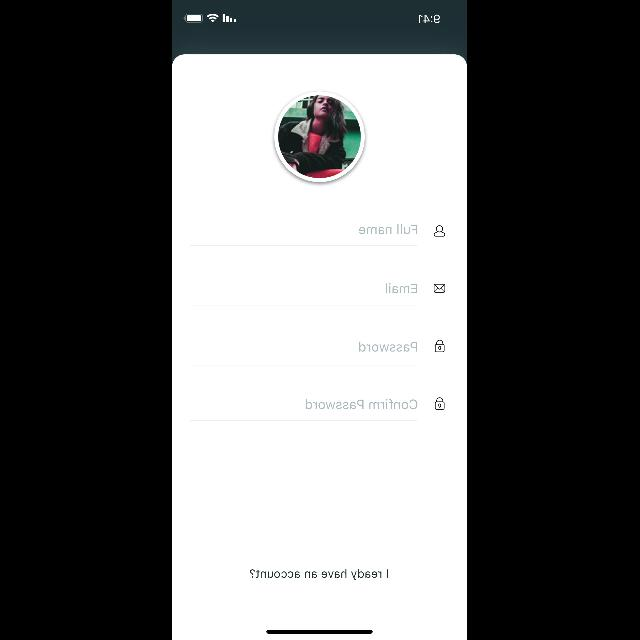icon: (434, 226, 446, 237), (436, 340, 446, 352), (436, 398, 446, 410), (434, 284, 446, 292)
image: (274, 92, 366, 182)
input: (190, 283, 420, 307), (191, 342, 419, 366), (190, 399, 420, 421), (190, 224, 418, 246)
text: (250, 570, 388, 580), (306, 399, 418, 409), (360, 342, 418, 352), (360, 224, 418, 234), (387, 283, 418, 293)
uppertaskbar: (184, 14, 440, 24)
